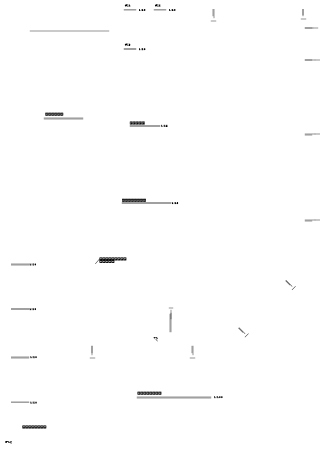staircase: (117, 230, 123, 235)
